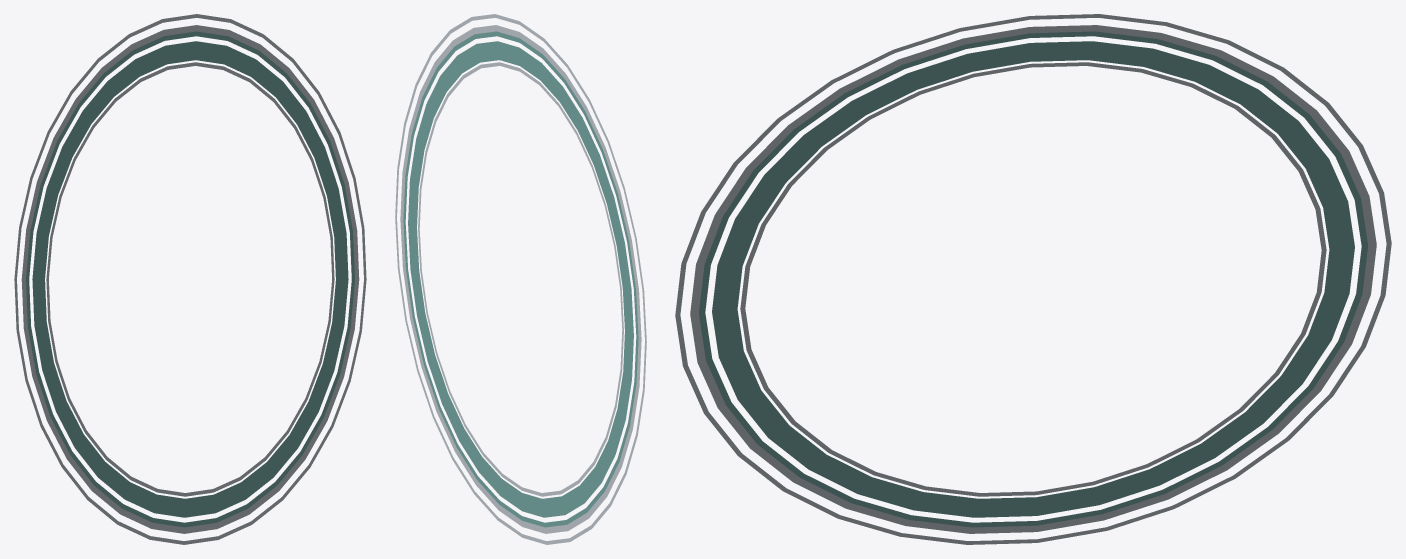
Rendered from miscring.obj.
The picture shows the model from 3 angles, left to right: view 1: azimuth 30°, elevation 25°; view 2: azimuth 150°, elevation 25°; view 3: azimuth 270°, elevation 25°; orthographic projection. The views are drawn at different scales.
Visible parts, largest first — view 1: Circle; view 2: Circle; view 3: Circle.
Boxes of the visible parts, x1=… form: Circle: x1=14, y1=14, x2=366, y2=544; Circle: x1=395, y1=14, x2=646, y2=544; Circle: x1=675, y1=14, x2=1391, y2=544.
Size of the model in its own units: 1.27 by 3.58 by 3.74.
